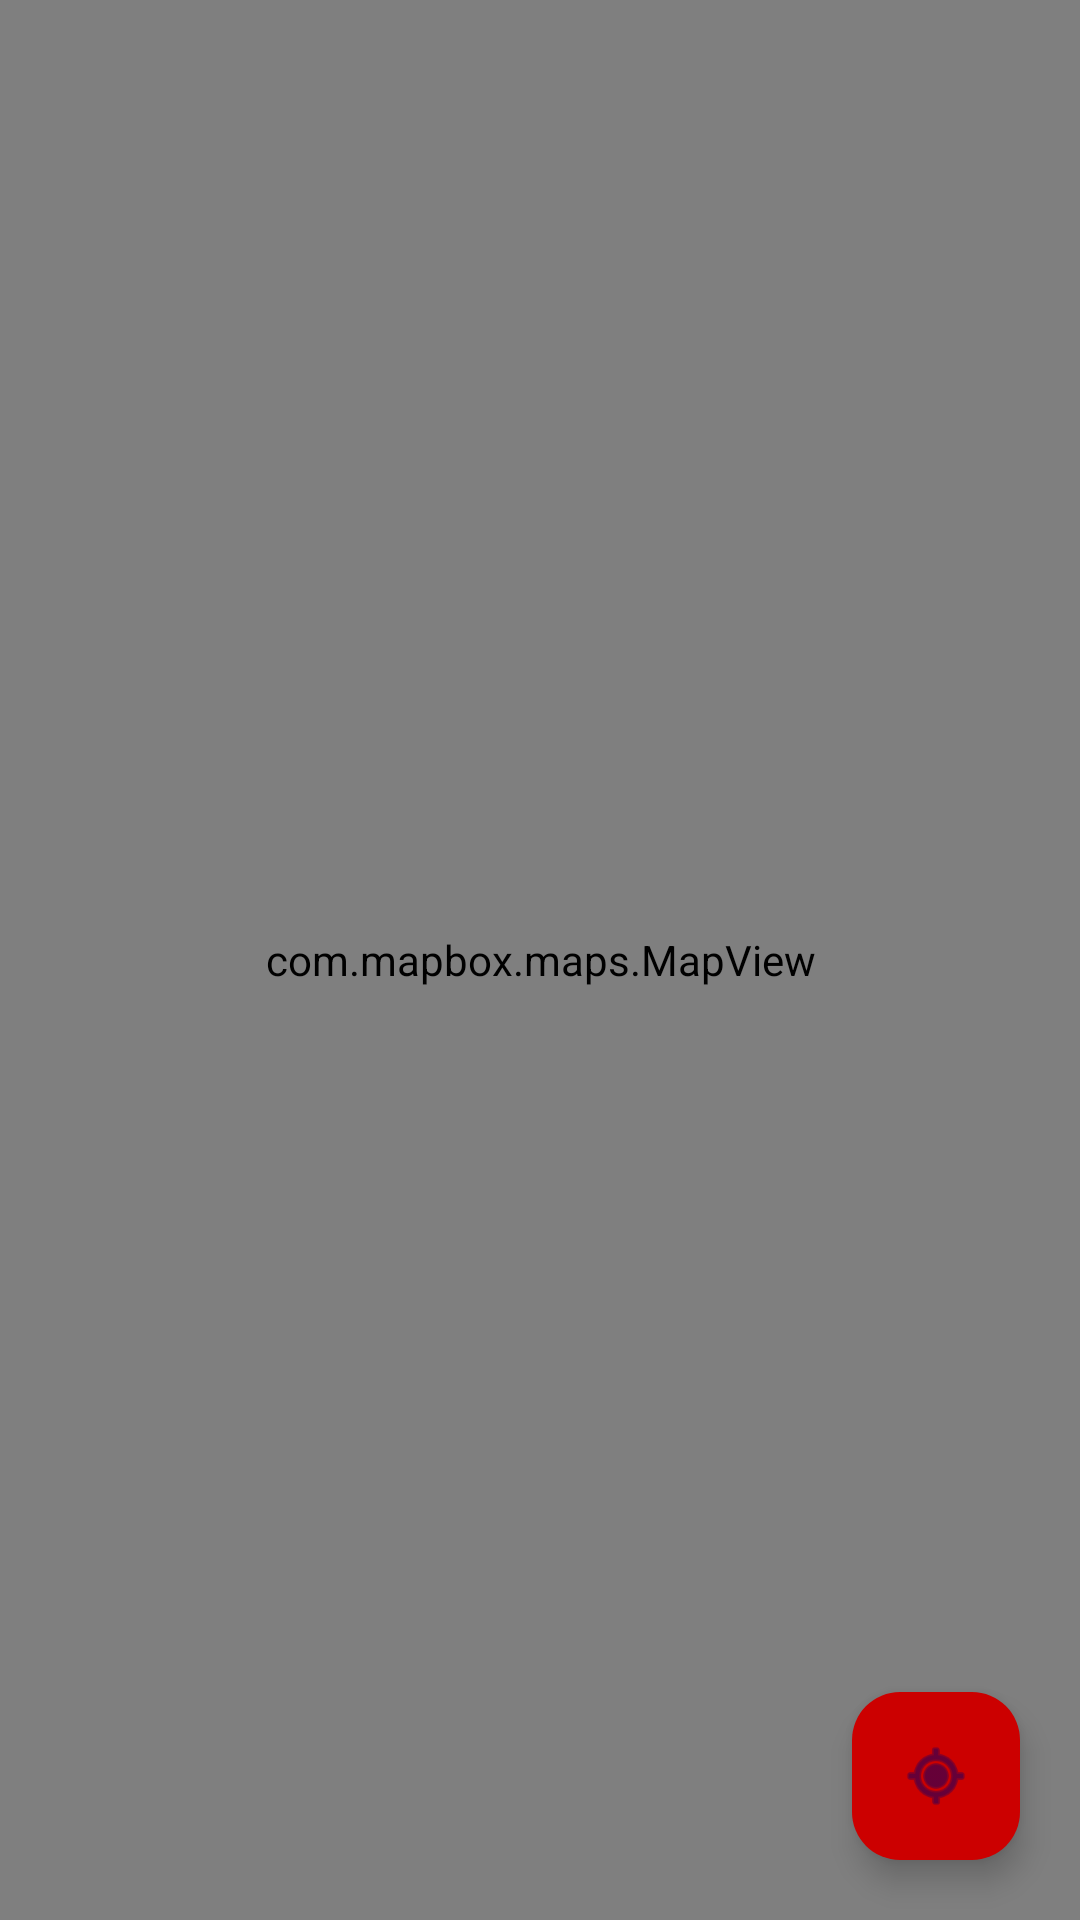

Icons on this 1080w x 1920h Android screen, each with its box as [x1=x1, y1=y1, x2=x2, y2=y2]:
mylocation: [x1=852, y1=1692, x2=1020, y2=1860]
